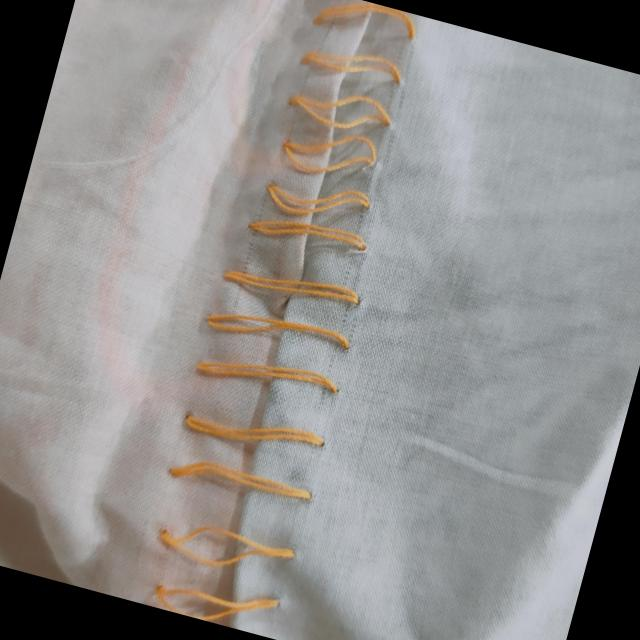gray stitch: (129, 0, 443, 640)
stain: (5, 548, 6, 549)
